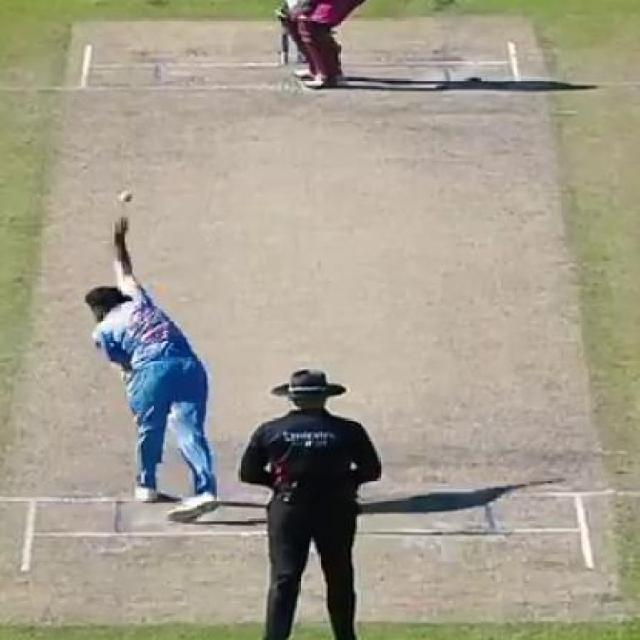Cricket ball: (118, 189, 134, 205)
